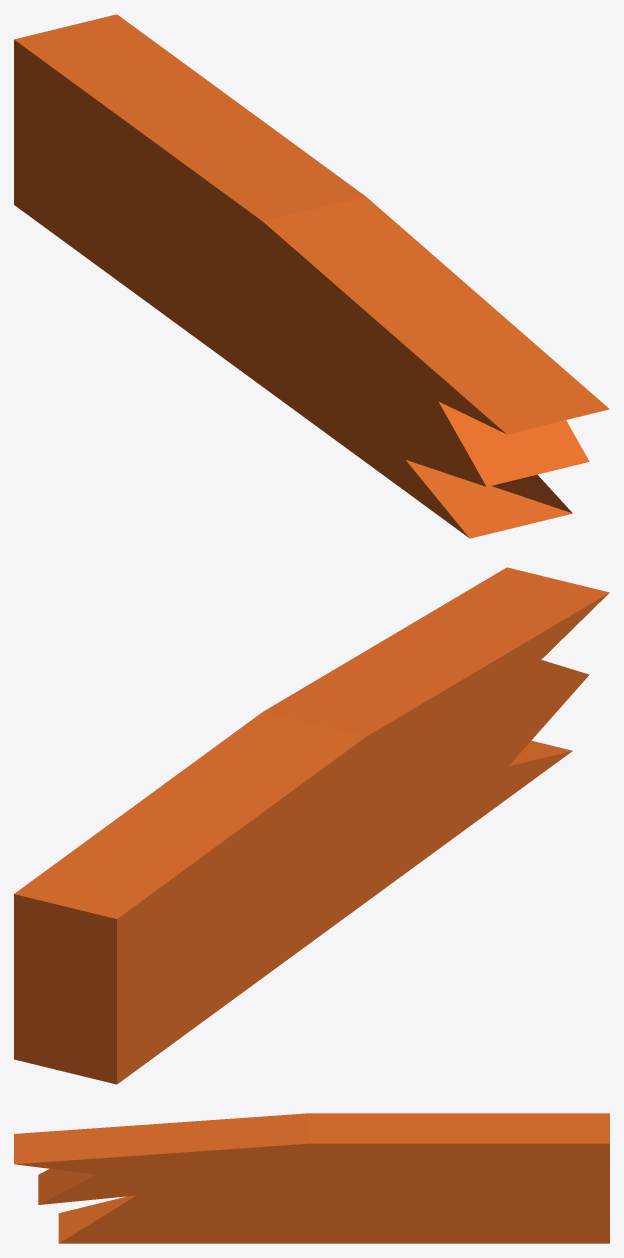
Rendered from scrap2.glb.
3 renders of one model, top to bottom at view 1: azimuth 30°, elevation 25°; view 2: azimuth 150°, elevation 25°; view 3: azimuth 270°, elevation 25°, orthographic. The views are drawn at different scales.
Parts seen in each view (by area): view 1: Box.001; view 2: Box.001; view 3: Box.001.
Boxes of the visible parts, <box> form: Box.001: <box>14,14,609,538</box>; Box.001: <box>14,567,609,1084</box>; Box.001: <box>14,1113,609,1243</box>.
Bounding box in the file's own units: 0.1555 × 0.2386 × 1.29.
